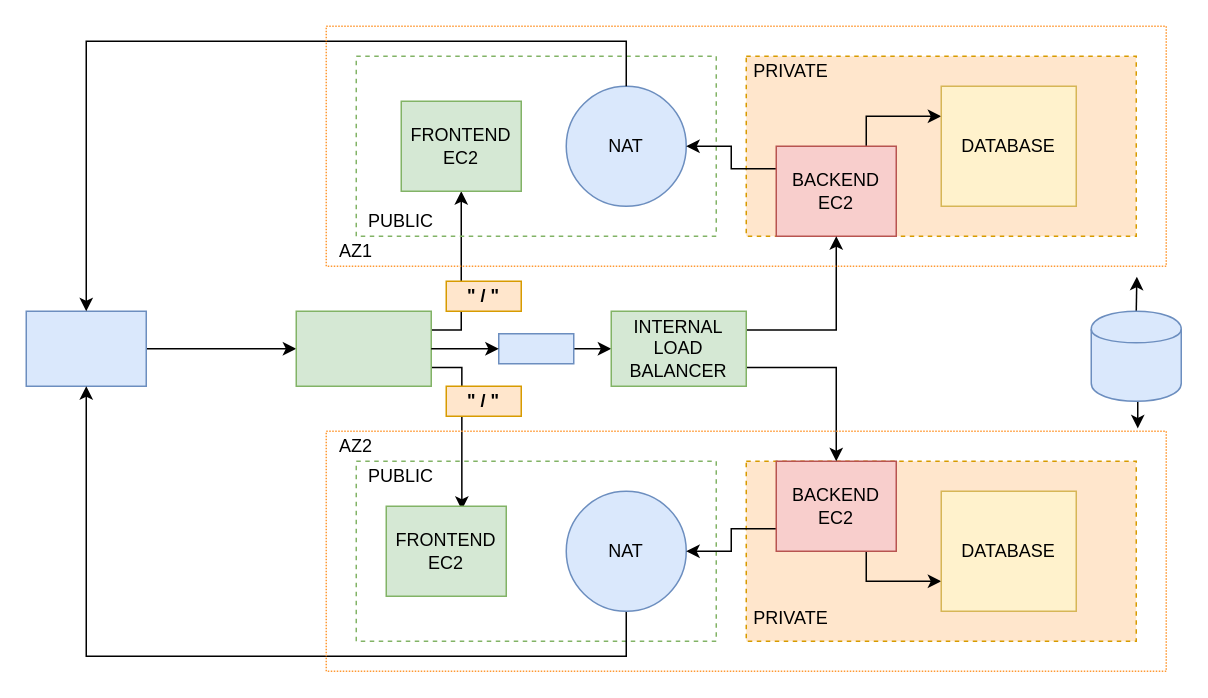
This 1208x698 diagram has some shape labels left out. Each missing label, with the centre of its shape:
" /api ": pixel 535 348
EXTERNAL LOAD BALANCER: pixel 363 348
INTERNET GATEWAY: pixel 85 348
S3: pixel 1135 355
